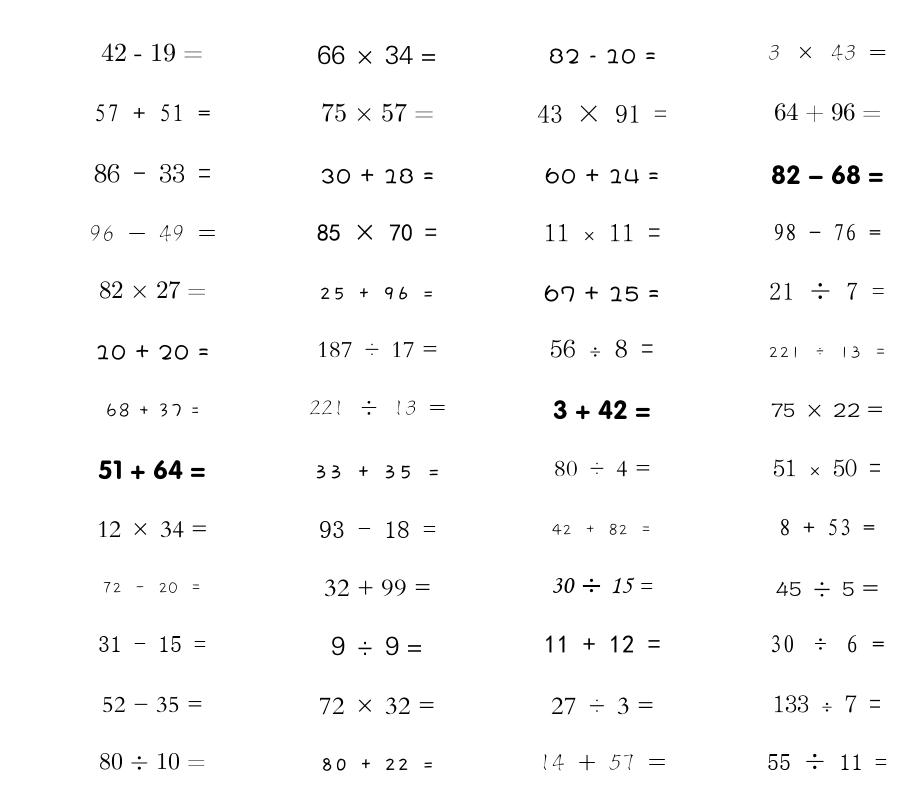MQ: (537, 104, 667, 123), (317, 45, 437, 65), (94, 163, 211, 183), (89, 224, 216, 242), (539, 753, 666, 771), (771, 165, 884, 185), (309, 400, 446, 416), (317, 224, 437, 242), (98, 460, 206, 480), (321, 103, 434, 122), (774, 103, 881, 123), (94, 104, 211, 122), (544, 224, 661, 242), (544, 635, 661, 653), (769, 282, 885, 300), (769, 635, 885, 653), (319, 697, 435, 715), (317, 341, 438, 358), (767, 753, 887, 770), (768, 44, 887, 61), (319, 521, 436, 538), (550, 339, 654, 358), (544, 285, 660, 302), (553, 400, 651, 420), (773, 223, 881, 241), (773, 459, 881, 477), (773, 695, 881, 713), (101, 43, 203, 62), (545, 167, 659, 184), (99, 281, 206, 299), (324, 579, 431, 597), (99, 752, 206, 770), (97, 521, 208, 538), (551, 697, 654, 715), (331, 636, 423, 656), (320, 168, 434, 184), (95, 344, 209, 360), (314, 465, 441, 479), (551, 577, 653, 594), (779, 518, 875, 536), (98, 636, 206, 652), (102, 696, 203, 713), (549, 48, 656, 64), (554, 460, 651, 477), (776, 581, 879, 597), (319, 286, 435, 300), (771, 403, 883, 417), (768, 346, 887, 359), (320, 758, 435, 771), (105, 403, 200, 418), (552, 523, 652, 536), (102, 582, 202, 594)
